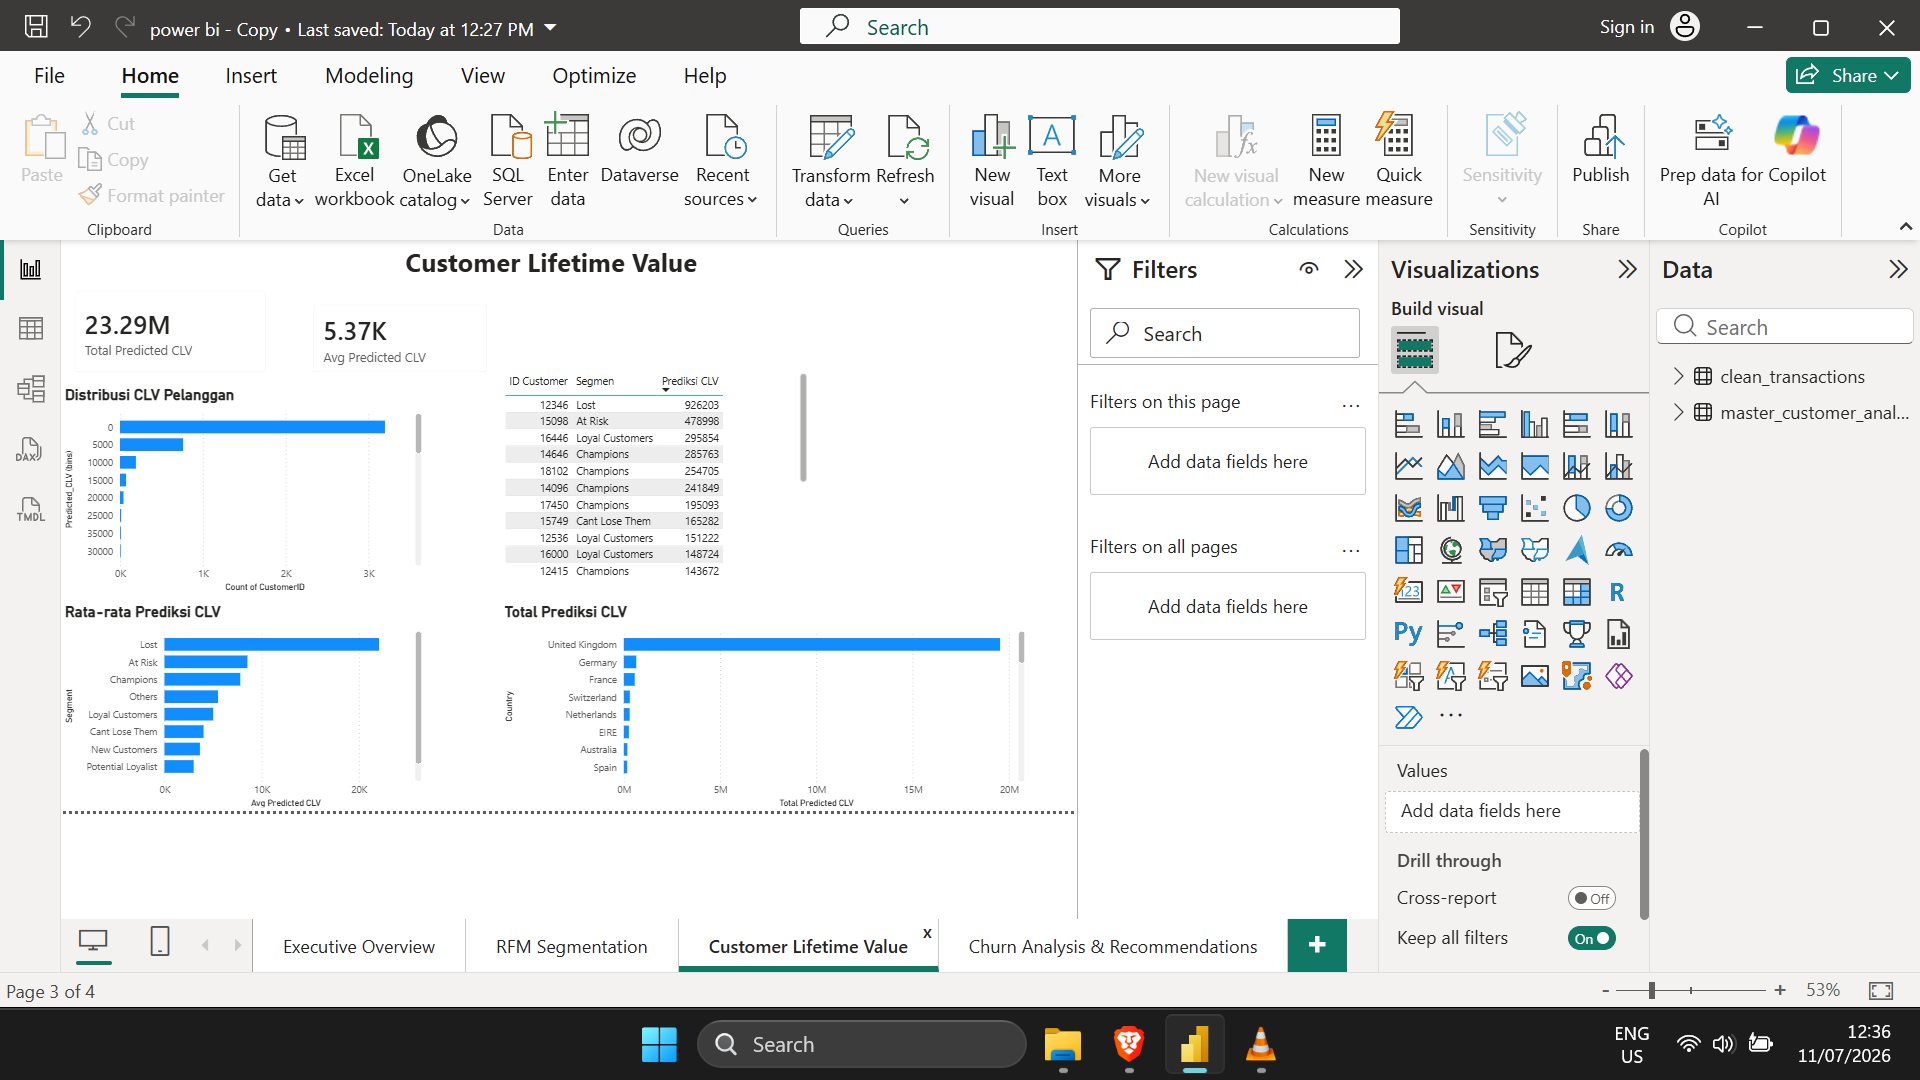

What the dashboard file says about the page in this screenshot:
{"tool":"powerbi","page":{"name":"Customer Lifetime Value","canvas":[1280,720],"ordinal":2},"visuals":[{"type":"textbox","box":[429,0,421.4,64.3],"z":0},{"type":"cardVisual","fields":{"Data":["master_customer_analytics.Total Predicted CLV"]},"box":[0,47.2,275.9,136.1],"z":1000},{"type":"cardVisual","fields":{"Data":["master_customer_analytics.Avg Predicted CLV"]},"box":[300.5,64.3,253.2,119.1],"z":2000},{"type":"clusteredBarChart","title":"Distribusi CLV Pelanggan","fields":{"Y":["CountNonNull(master_customer_analytics.CustomerID)"],"Category":["master_customer_analytics.Predicted_CLV (bins)"]},"box":[0,183.3,459.2,264.6],"z":3000},{"type":"clusteredBarChart","title":"Rata-rata Prediksi CLV","fields":{"Category":["master_customer_analytics.Segment"],"Y":["master_customer_analytics.Avg Predicted CLV"]},"box":[0,458,459,262],"z":4000},{"type":"tableEx","fields":{"Values":["master_customer_analytics.CustomerID","master_customer_analytics.Segment","master_customer_analytics.Predicted_CLV"]},"box":[553.7,162.5,391.2,264.6],"z":5000},{"type":"clusteredBarChart","title":"Total Prediksi CLV","fields":{"Category":["clean_transactions.Country"],"Y":["master_customer_analytics.Total Predicted CLV"]},"box":[553.7,457.3,665.2,262.7],"z":6000}]}

Visuals, with their boxes on the page's 1280x720 design canvas (x1, y1, x2, y2). These are canvas units, not pixel positions in the 1920x1080 screenshot, which may show the page scaled, cropped or inside an application window:
textbox: <bbox>429, 0, 850, 64</bbox>
cardVisual - master_customer_analytics.Total Predicted CLV: <bbox>0, 47, 276, 183</bbox>
cardVisual - master_customer_analytics.Avg Predicted CLV: <bbox>300, 64, 554, 183</bbox>
"Distribusi CLV Pelanggan" clusteredBarChart: <bbox>0, 183, 459, 448</bbox>
"Rata-rata Prediksi CLV" clusteredBarChart: <bbox>0, 458, 459, 720</bbox>
tableEx - master_customer_analytics.CustomerID x master_customer_analytics.Segment: <bbox>554, 162, 945, 427</bbox>
"Total Prediksi CLV" clusteredBarChart: <bbox>554, 457, 1219, 720</bbox>
